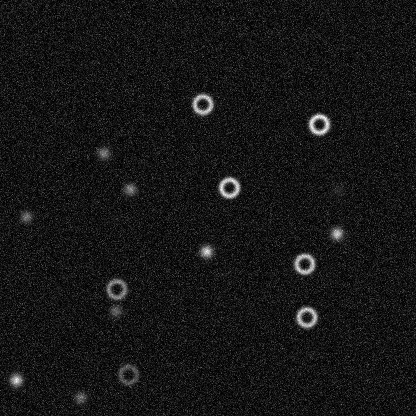Ring: (292, 251, 316, 275), (190, 92, 214, 116), (116, 362, 140, 386), (217, 175, 241, 199), (294, 305, 318, 329), (306, 112, 330, 136), (104, 276, 128, 300)
Spot: (18, 208, 34, 224), (198, 243, 214, 259), (328, 225, 344, 241), (8, 371, 24, 387), (107, 302, 123, 318), (72, 389, 88, 405), (95, 145, 111, 161), (330, 182, 346, 198), (121, 181, 137, 197)
